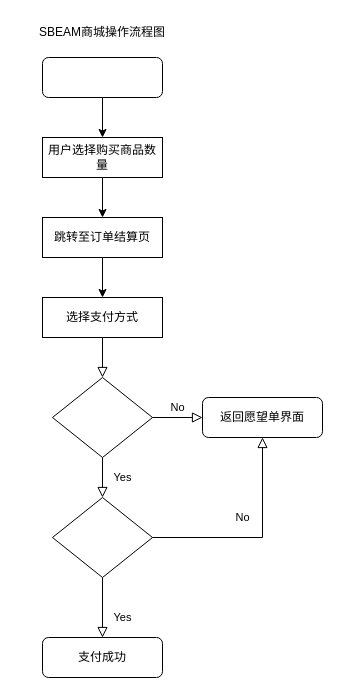
Image size: 340x695. Some labels were removed from this diagram. The box of each missing label's shape, as (x1, y1, x2, y2) in pixels:
余额是否足够？: (52, 376, 152, 458)
点击支付按钮: (52, 496, 152, 578)
用户进入愿望单: (42, 56, 162, 98)
